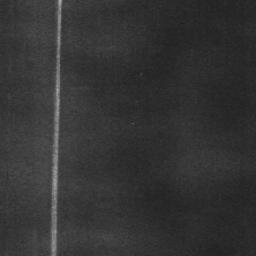Bright scratch: (51, 0, 62, 256)
